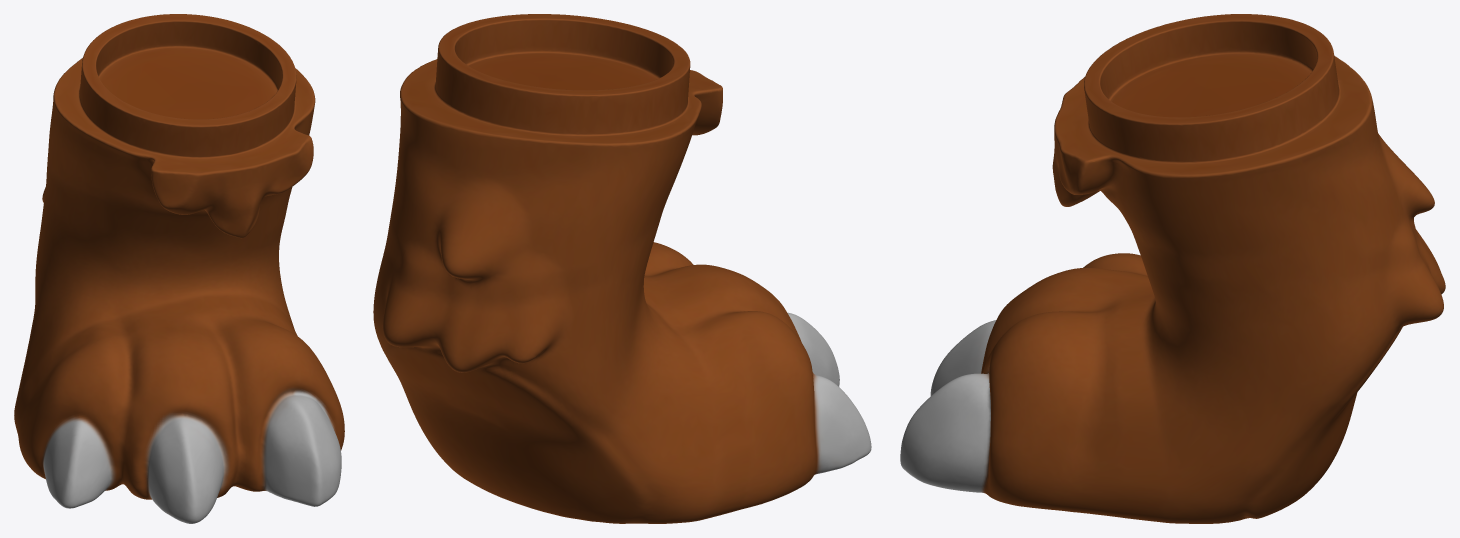
Rendered from Patte_Lion_rg.glb.
3 views of the same model, side by side, from view 1: azimuth 30°, elevation 25°; view 2: azimuth 150°, elevation 25°; view 3: azimuth 270°, elevation 25° (orthographic). The views are drawn at different scales.
Visible parts, largest first — view 1: Patte_Lion_rg; view 2: Patte_Lion_rg; view 3: Patte_Lion_rg.
Boxes of the visible parts, x1,y1,x2,y2 form: Patte_Lion_rg: (14,14,344,523); Patte_Lion_rg: (373,14,871,523); Patte_Lion_rg: (900,14,1445,523).
Bounding box in the file's own units: 2.06 × 2.27 × 2.68.
